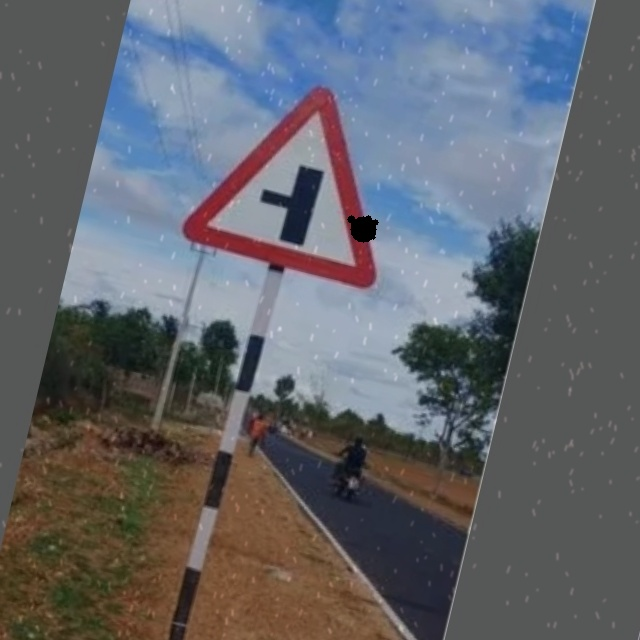Side_Road_Left: (180, 65, 417, 299)
